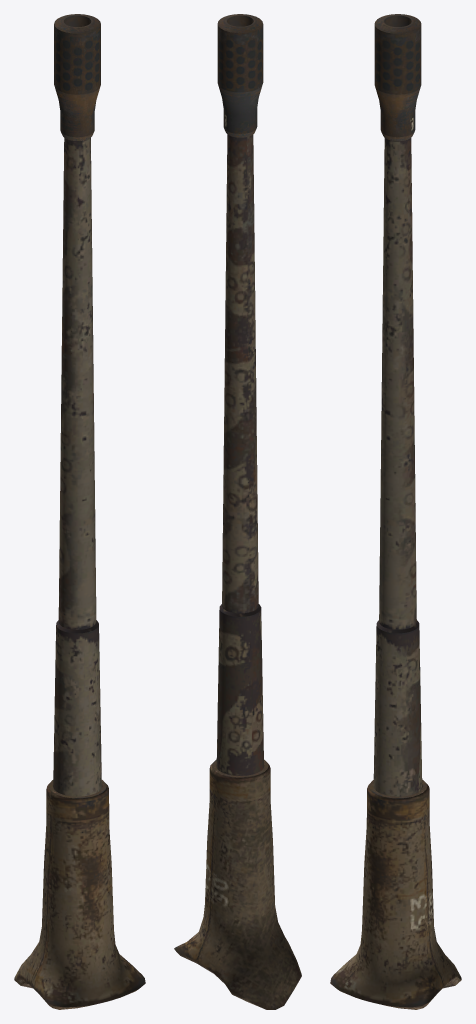
Rendered from Gun_11.glb.
The picture shows the model from 3 angles, left to right: view 1: azimuth 30°, elevation 25°; view 2: azimuth 210°, elevation 25°; view 3: azimuth 330°, elevation 25°; orthographic projection. The views are drawn at different scales.
Visible parts, largest first — view 1: set_0_group_0; view 2: set_0_group_0; view 3: set_0_group_0.
Part boxes in pixels (x1,y1,x2,y2): set_0_group_0: [14, 14, 145, 1009]; set_0_group_0: [174, 14, 301, 1009]; set_0_group_0: [330, 14, 461, 1009].
Bounding box in the file's own units: 0.6214 × 6 × 0.6765.
Materials: 1 (1 with a texture image).
